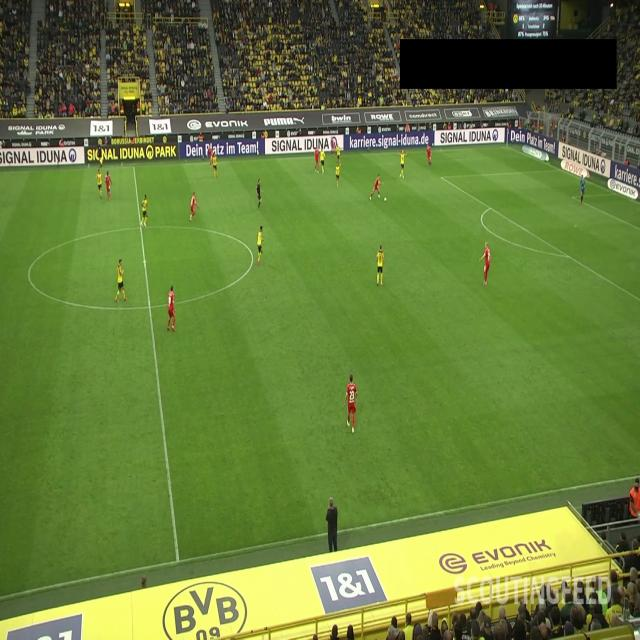ball: (383, 196, 387, 203)
goalkeeper: (580, 174, 586, 205)
player: (343, 373, 358, 434), (114, 258, 128, 302), (479, 242, 491, 286), (167, 284, 176, 332), (369, 173, 384, 200), (376, 245, 385, 286), (189, 191, 201, 220), (398, 147, 408, 179), (257, 225, 264, 264), (140, 194, 148, 227), (104, 171, 112, 200), (96, 168, 102, 199), (212, 150, 218, 178), (314, 146, 320, 173), (330, 135, 337, 158), (426, 142, 432, 168), (335, 160, 340, 188), (320, 146, 325, 174), (208, 145, 213, 168), (336, 145, 341, 165)
referee: (256, 178, 262, 208), (98, 139, 104, 169)
